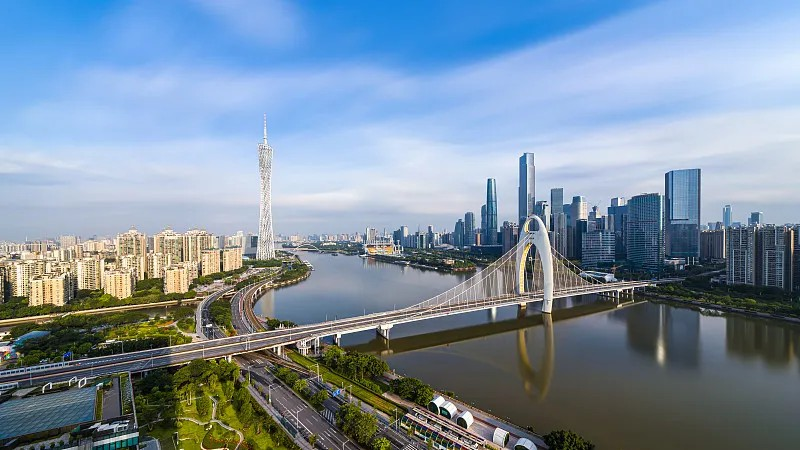Canton: (252, 110, 279, 260)
